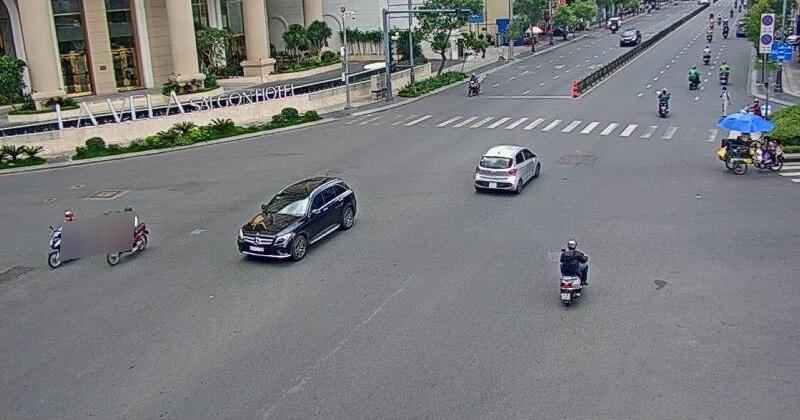xe hoi: (236, 177, 355, 265), (476, 142, 540, 194)
xe may: (106, 205, 148, 266), (556, 241, 591, 307), (50, 212, 88, 265)
